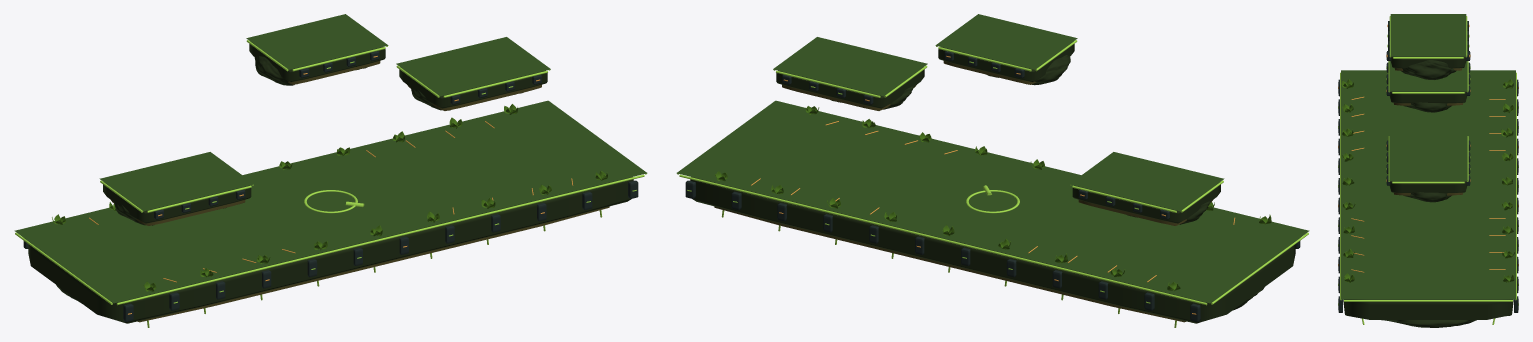
Rendered from bliss-circuit.obj.
The picture shows the model from 3 angles, left to right: view 1: azimuth 30°, elevation 25°; view 2: azimuth 150°, elevation 25°; view 3: azimuth 270°, elevation 25°; orthographic projection. The views are drawn at different scales.
Visible parts, largest first — view 1: arena-deck_part_180, beveled-plate_part_0, arena-deck_part_182, arena-deck_part_181, arena-deck_part_183, cylinder_part_110, beveled-plate_part_68, beveled-plate_part_50, beveled-plate_part_1, beveled-plate_part_86, asteroid-0_part_166; view 2: arena-deck_part_180, beveled-plate_part_0, arena-deck_part_182, arena-deck_part_181, arena-deck_part_183, cylinder_part_108, beveled-plate_part_68, beveled-plate_part_50, beveled-plate_part_1, beveled-plate_part_86, asteroid-0_part_166; view 3: arena-deck_part_180, arena-deck_part_182, arena-deck_part_183, beveled-plate_part_0, arena-deck_part_181, beveled-plate_part_68, beveled-plate_part_50, asteroid-2_part_176, beveled-plate_part_86, asteroid-2_part_173, asteroid-2_part_175, asteroid-2_part_174 (+5 smaller).
Boxes of the visible parts, x1,y1,x2,y2 form: arena-deck_part_180: (14,100,647,303); beveled-plate_part_0: (28,177,633,323); arena-deck_part_182: (396,37,550,96); arena-deck_part_181: (99,152,254,211); arena-deck_part_183: (246,14,388,69); cylinder_part_110: (116,174,644,305); beveled-plate_part_68: (399,69,547,108); beveled-plate_part_50: (103,184,251,223); beveled-plate_part_1: (137,206,609,322); beveled-plate_part_86: (249,43,385,82); asteroid-0_part_166: (254,56,297,85); arena-deck_part_180: (676,100,1309,303); beveled-plate_part_0: (690,177,1295,323); arena-deck_part_182: (773,37,927,96); arena-deck_part_181: (1069,152,1224,211); arena-deck_part_183: (935,14,1077,69); cylinder_part_108: (679,174,1207,305); beveled-plate_part_68: (776,69,924,108); beveled-plate_part_50: (1072,184,1220,223); beveled-plate_part_1: (714,206,1186,322); beveled-plate_part_86: (938,43,1074,82); asteroid-0_part_166: (1026,55,1070,85); arena-deck_part_180: (1341,70,1515,299); arena-deck_part_182: (1389,133,1467,181); arena-deck_part_183: (1390,14,1466,56); beveled-plate_part_0: (1343,299,1513,319); arena-deck_part_181: (1389,61,1467,91); beveled-plate_part_68: (1390,181,1466,192); beveled-plate_part_50: (1390,91,1466,103); asteroid-2_part_176: (1400,60,1456,79); beveled-plate_part_86: (1390,56,1466,68); asteroid-2_part_173: (1381,320,1476,327); asteroid-2_part_175: (1403,192,1451,202); asteroid-2_part_174: (1403,102,1451,112).
Bounding box in the file's own units: 23.69 × 8.81 × 7.87.
